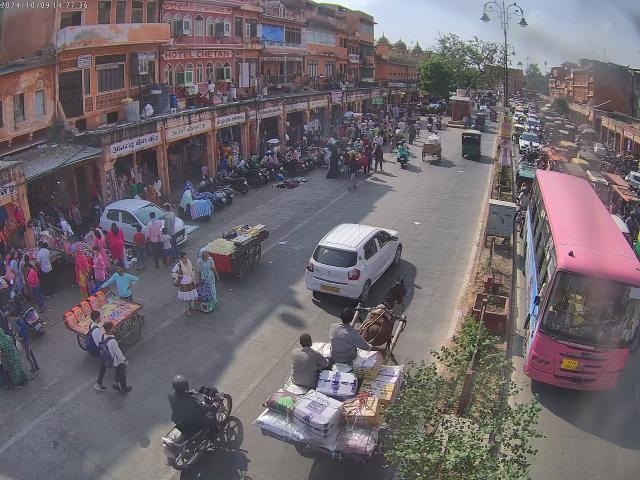auto: (460, 129, 482, 161)
bus: (519, 167, 640, 391)
car: (304, 222, 404, 303)
helmet: (170, 374, 189, 392)
license_plate: (562, 358, 578, 372), (320, 284, 340, 294)
motorbike: (233, 164, 270, 185), (300, 153, 318, 172)
motorbike-rider: (164, 375, 243, 469), (368, 144, 384, 174), (394, 142, 411, 168)
person: (86, 309, 132, 394), (329, 307, 386, 367), (288, 333, 332, 389), (8, 312, 39, 377), (174, 252, 198, 317), (196, 248, 219, 314), (22, 266, 48, 314), (72, 246, 94, 296), (146, 210, 164, 266), (133, 225, 148, 270), (159, 226, 174, 266), (346, 154, 359, 192)
rickshow: (421, 132, 443, 162)
scooty: (5, 278, 43, 339), (198, 174, 234, 207)
vendor: (65, 263, 146, 351), (202, 223, 270, 276)
